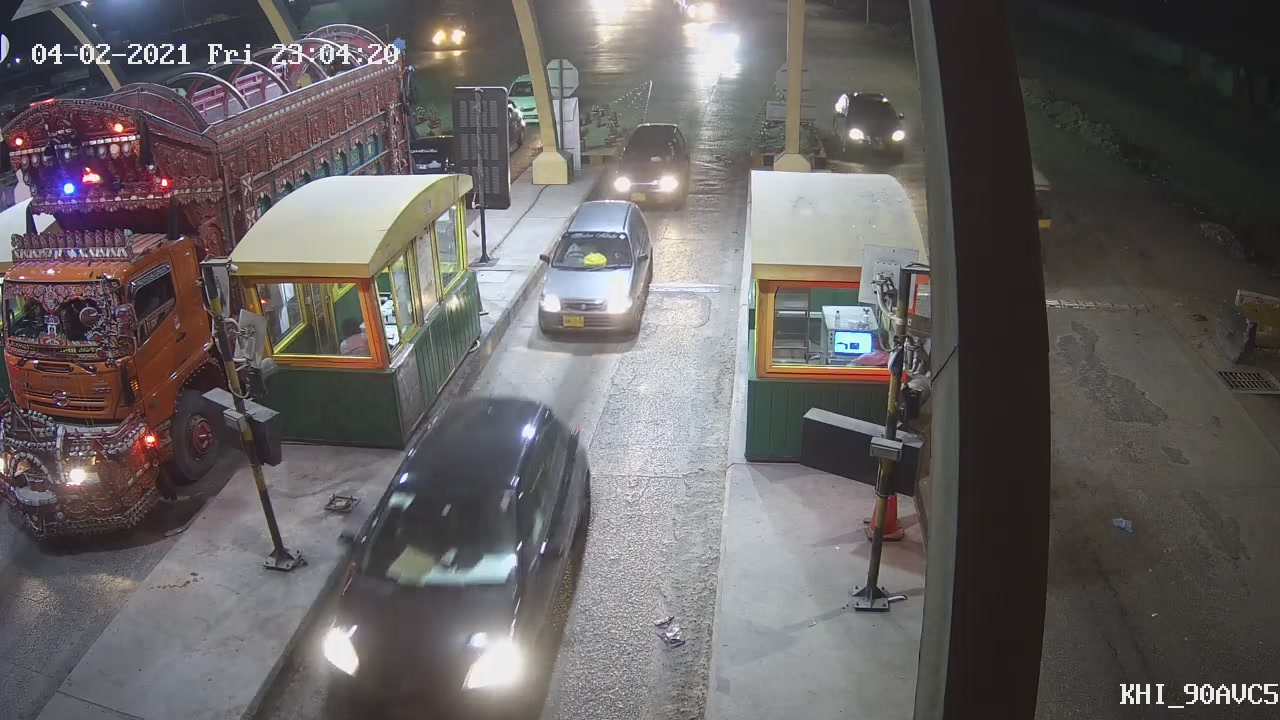F1: (531, 196, 666, 350)
